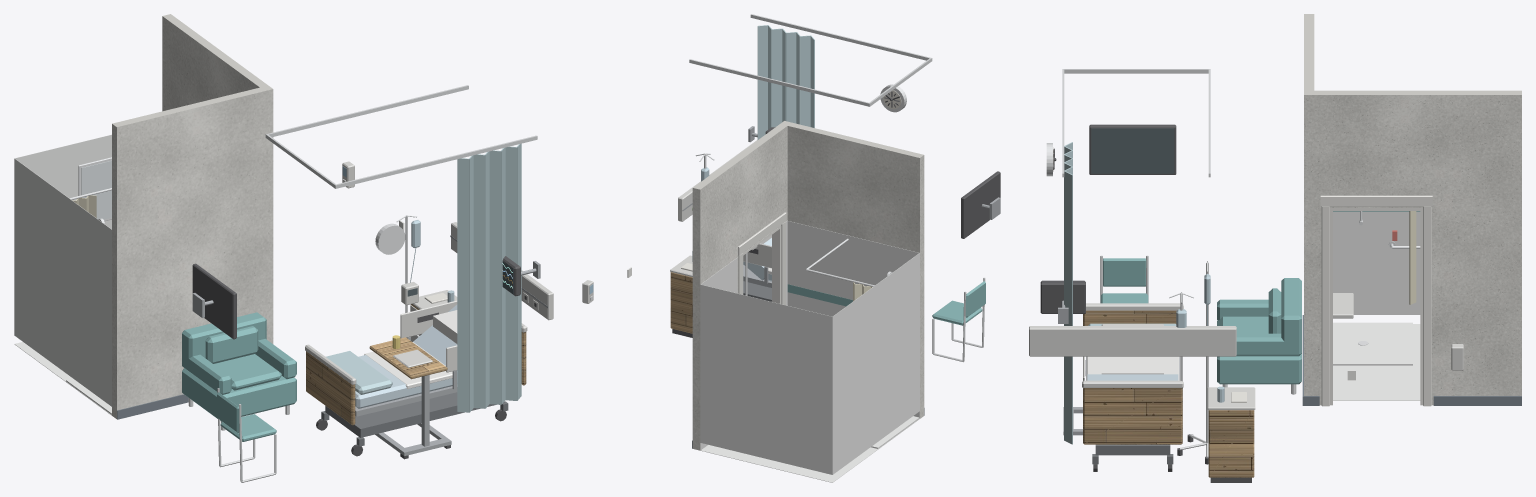
File: room_ward_364x458.glb
3 renders of one model, left to right at view 1: azimuth 30°, elevation 25°; view 2: azimuth 150°, elevation 25°; view 3: azimuth 270°, elevation 25°, orthographic. The views are drawn at different scales.
Parts seen in each view (by area): view 1: room_ward_364x458_plaster, room_ward_364x458_tile_c, room_ward_364x458_curtain, room_ward_364x458_vinyl_t, room_ward_364x458_cart_w, room_ward_364x458_laminate, room_ward_364x458_steel, room_ward_364x458_steel_d, room_ward_364x458_alu, room_ward_364x458_dark, room_ward_364x458_chrome, room_ward_364x458_bed_b (+3 smaller); view 2: room_ward_364x458_tile_c, room_ward_364x458_plaster, room_ward_364x458_curtain, room_ward_364x458_alu, room_ward_364x458_frame, room_ward_364x458_dark, room_ward_364x458_vinyl_t, room_ward_364x458_chrome, room_ward_364x458_cart_w, room_ward_364x458_laminate, room_ward_364x458_steel; view 3: room_ward_364x458_plaster, room_ward_364x458_tile_c, room_ward_364x458_laminate, room_ward_364x458_cart_w, room_ward_364x458_vinyl_t, room_ward_364x458_frame, room_ward_364x458_screen, room_ward_364x458_curtain, room_ward_364x458_dark, room_ward_364x458_bed_w, room_ward_364x458_chrome, room_ward_364x458_alu (+5 smaller).
Part boxes in pixels (x1,y1,x2,y2): room_ward_364x458_plaster: (112, 14, 273, 418); room_ward_364x458_tile_c: (14, 134, 111, 415); room_ward_364x458_curtain: (326, 143, 521, 412); room_ward_364x458_vinyl_t: (182, 312, 296, 441); room_ward_364x458_cart_w: (305, 161, 553, 384); room_ward_364x458_laminate: (306, 304, 526, 425); room_ward_364x458_steel: (192, 235, 548, 455); room_ward_364x458_steel_d: (321, 392, 508, 446); room_ward_364x458_alu: (265, 85, 537, 188); room_ward_364x458_dark: (192, 256, 536, 339); room_ward_364x458_chrome: (70, 157, 419, 482); room_ward_364x458_bed_b: (355, 304, 457, 408); room_ward_364x458_tile_c: (700, 220, 919, 482); room_ward_364x458_plaster: (692, 121, 924, 450); room_ward_364x458_curtain: (757, 25, 814, 139); room_ward_364x458_alu: (689, 14, 932, 106); room_ward_364x458_frame: (738, 212, 786, 305); room_ward_364x458_dark: (672, 91, 1000, 337); room_ward_364x458_vinyl_t: (787, 281, 985, 325); room_ward_364x458_chrome: (590, 84, 985, 362); room_ward_364x458_cart_w: (582, 140, 771, 303); room_ward_364x458_laminate: (670, 272, 692, 333); room_ward_364x458_steel: (682, 126, 1000, 287); room_ward_364x458_plaster: (1304, 14, 1521, 405); room_ward_364x458_tile_c: (1333, 211, 1420, 400); room_ward_364x458_laminate: (1083, 310, 1254, 477); room_ward_364x458_cart_w: (1029, 293, 1463, 410); room_ward_364x458_vinyl_t: (1100, 211, 1420, 384); room_ward_364x458_frame: (1320, 195, 1432, 406); room_ward_364x458_screen: (1091, 128, 1174, 173); room_ward_364x458_curtain: (1064, 142, 1176, 444); room_ward_364x458_dark: (1040, 124, 1251, 482); room_ward_364x458_bed_w: (1086, 356, 1178, 380); room_ward_364x458_chrome: (1046, 143, 1420, 457); room_ward_364x458_alu: (1062, 69, 1210, 177).
Bounding box in the file's own units: 3.7 × 3.31 × 4.75.
33 materials, 2 textured.
